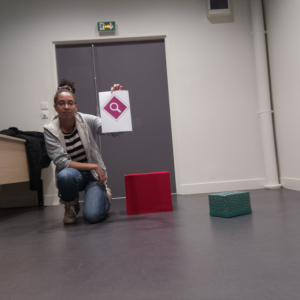search: (101, 94, 128, 121)
